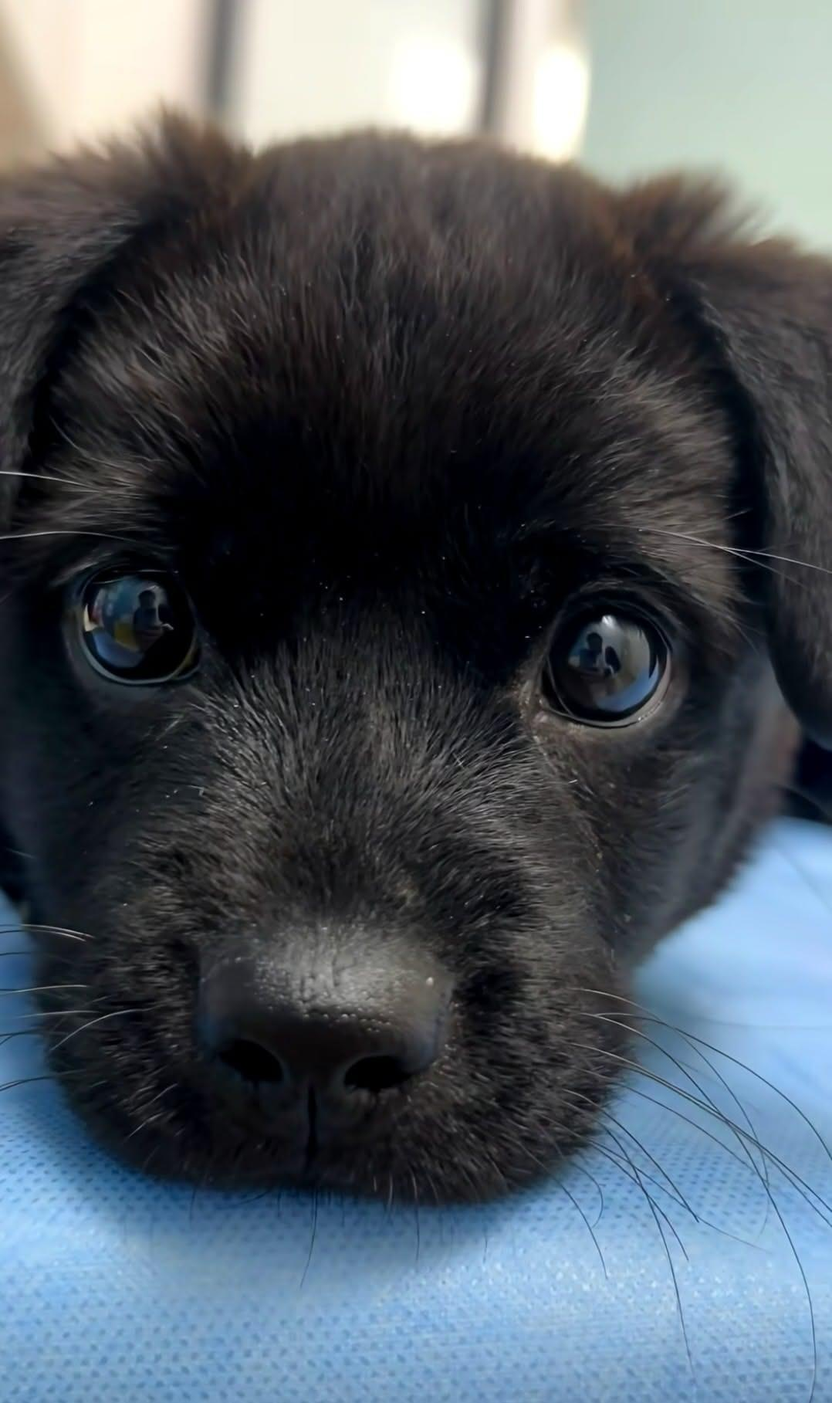puppy-dog: (0, 106, 832, 1220)
